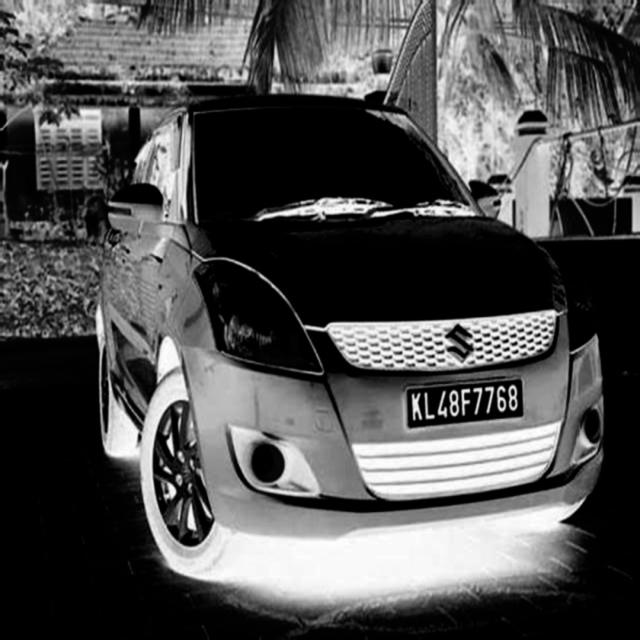Non_registered: (403, 382, 527, 424)
